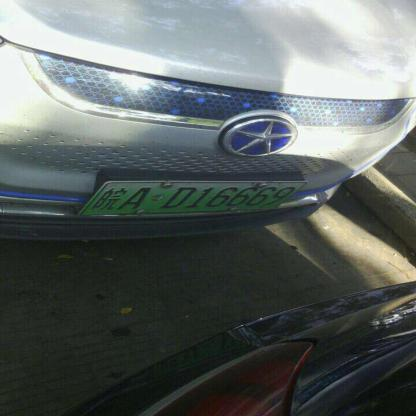lp: (80, 182, 306, 214)
